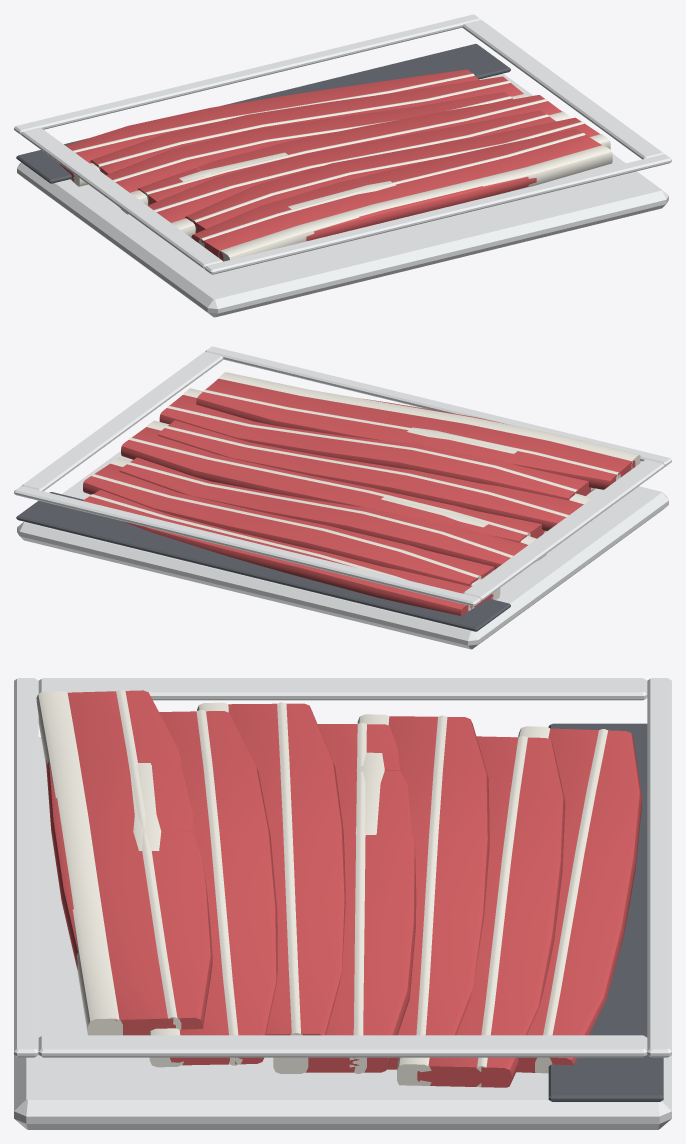
File: fresh-produce-and-groceries-bacon-pack-8f5cefab__24404.glb
3 renders of one model, top to bottom at view 1: azimuth 30°, elevation 25°; view 2: azimuth 150°, elevation 25°; view 3: azimuth 270°, elevation 25°, orthographic. The views are drawn at different scales.
Visible parts, largest first — view 1: bacon-pack; view 2: bacon-pack; view 3: bacon-pack.
Boxes of the visible parts, x1=… form: bacon-pack: x1=14, y1=14, x2=671, y2=317; bacon-pack: x1=14, y1=346, x2=671, y2=649; bacon-pack: x1=14, y1=678, x2=671, y2=1129.
Size of the model in its own units: 0.215 by 0.0256 by 0.16.
